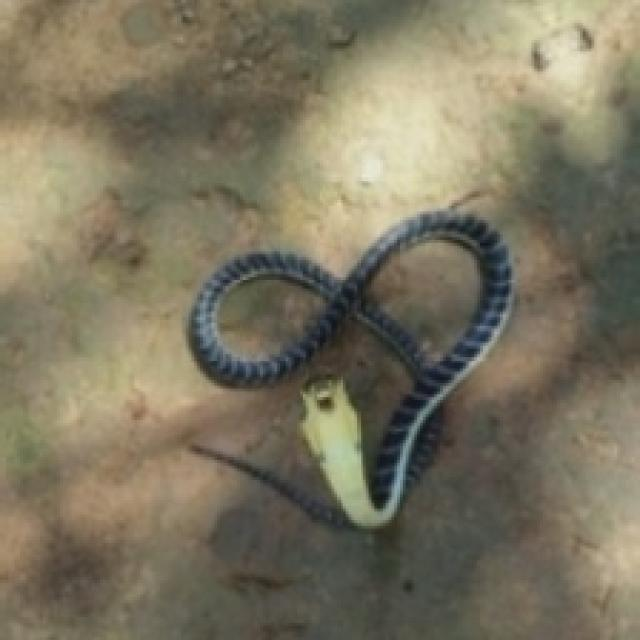king cobra: (189, 211, 511, 526), (360, 237, 483, 360), (214, 274, 329, 357)
